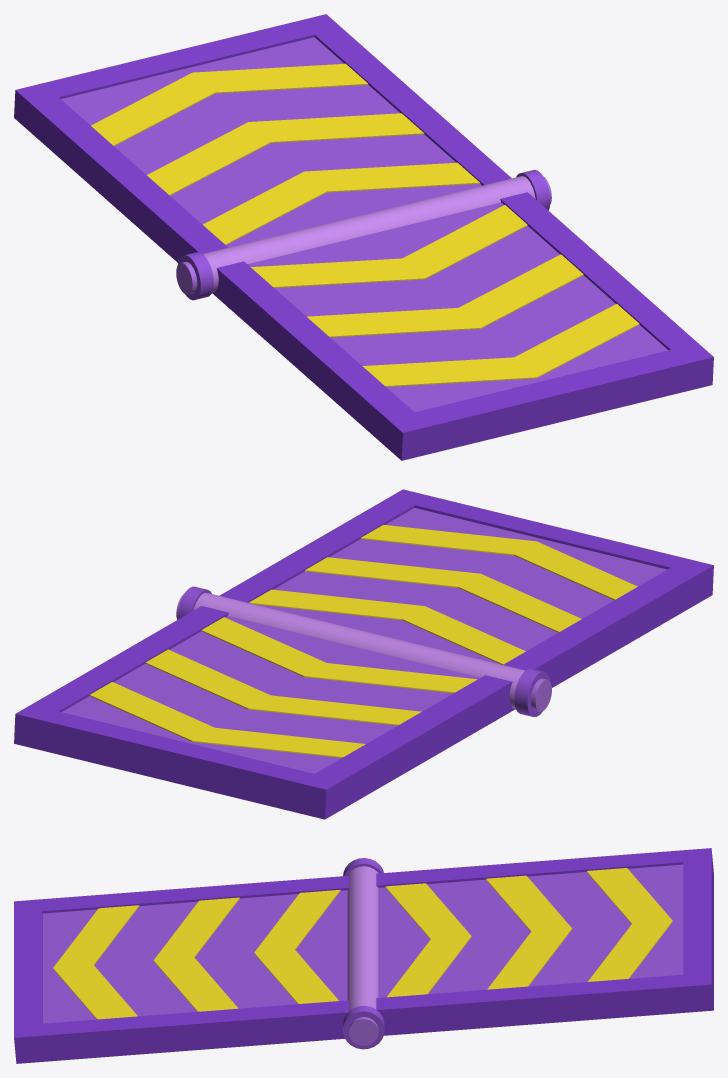
The model's file is Seesaw.fbx.
The picture shows the model from 3 angles, top to bottom: view 1: azimuth 30°, elevation 25°; view 2: azimuth 150°, elevation 25°; view 3: azimuth 270°, elevation 25°; orthographic projection. The views are drawn at different scales.
Parts seen in each view (by area): view 1: Mobile_Ground1; view 2: Mobile_Ground1; view 3: Mobile_Ground1.
Boxes of the visible parts, box(x1,y1,x2,y2) form: Mobile_Ground1: box(14, 14, 713, 460); Mobile_Ground1: box(14, 489, 713, 819); Mobile_Ground1: box(14, 848, 713, 1063).
Bounding box in the file's own units: 692 × 162 × 1297.
